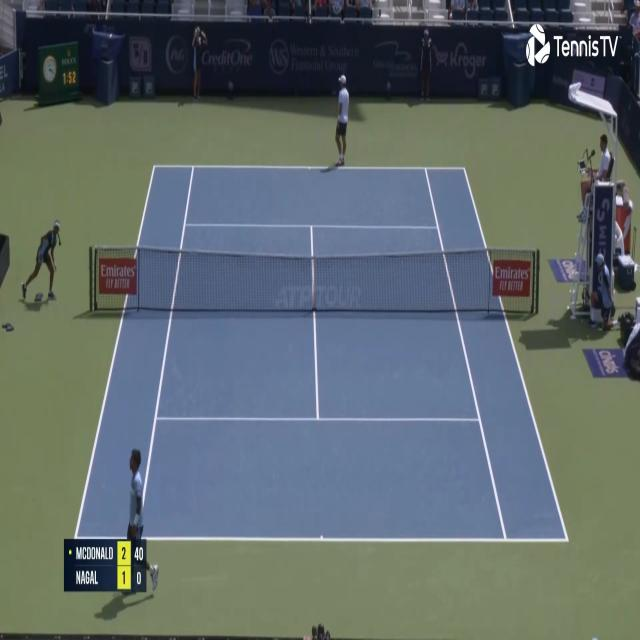tennis-player: (120, 446, 158, 600), (334, 72, 350, 168)
